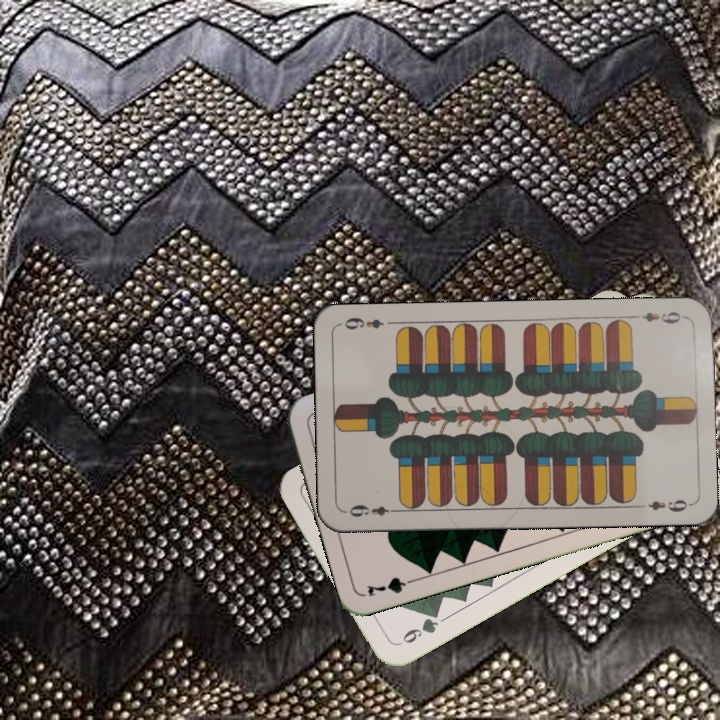E9: (342, 501, 401, 520), (628, 307, 687, 326)
G7: (362, 572, 421, 599)
G9: (393, 607, 442, 648)
